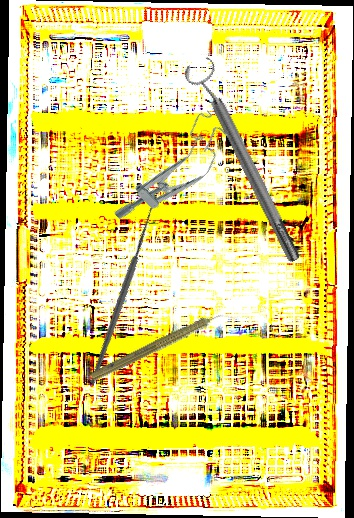Fixation Ring: (180, 54, 310, 269)
Handpiece: (88, 303, 236, 387)
Hook Surgical: (17, 186, 224, 387)
Speculum: (106, 107, 240, 241)
